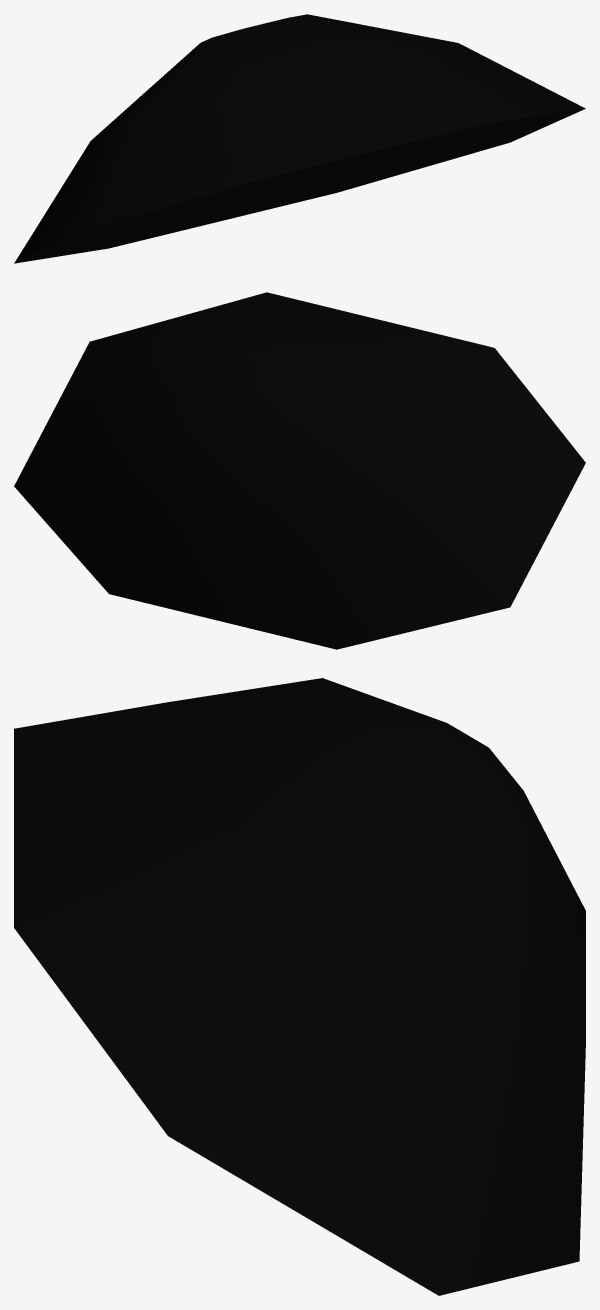
The model's file is Spaceship_hood.fbx.
The picture shows the model from 3 angles, top to bottom: view 1: azimuth 30°, elevation 25°; view 2: azimuth 150°, elevation 25°; view 3: azimuth 270°, elevation 25°; orthographic projection. The views are drawn at different scales.
Parts seen in each view (by area): view 1: Spaceship_hood; view 2: Spaceship_hood; view 3: Spaceship_hood.
Part boxes in pixels (x1=…): Spaceship_hood: x1=14, y1=14, x2=585, y2=263; Spaceship_hood: x1=14, y1=292, x2=585, y2=649; Spaceship_hood: x1=14, y1=678, x2=585, y2=1295.
Size of the model in its own units: 335 by 148 by 187.
